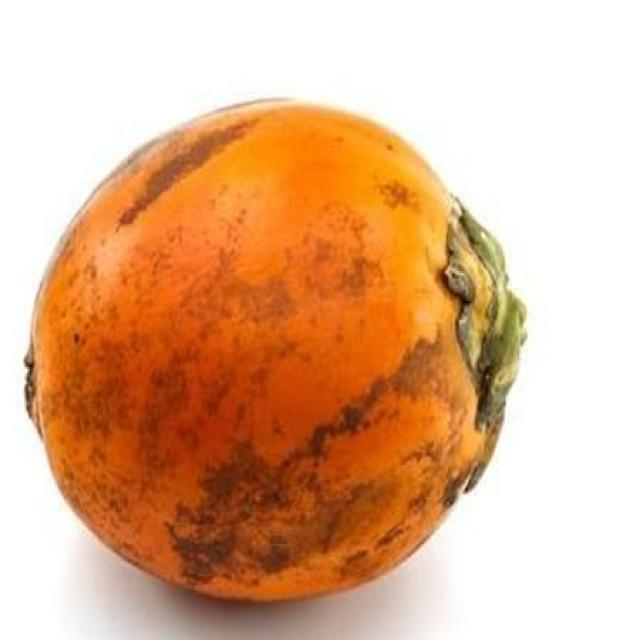good: (24, 100, 526, 608)
